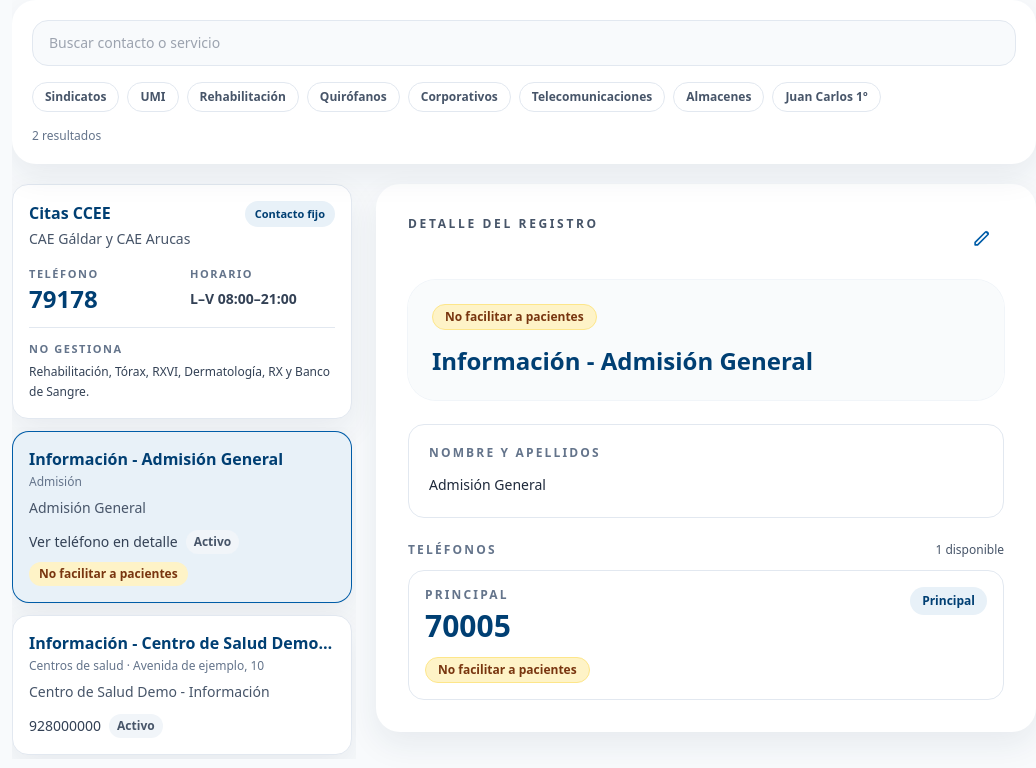
Test: DirectoryPage › keeps pager-only records out of the phone directory
Type "Busca sin teléfono" into the search field named "Buscar contactos" at (524, 43), box [32,20,1016,66]
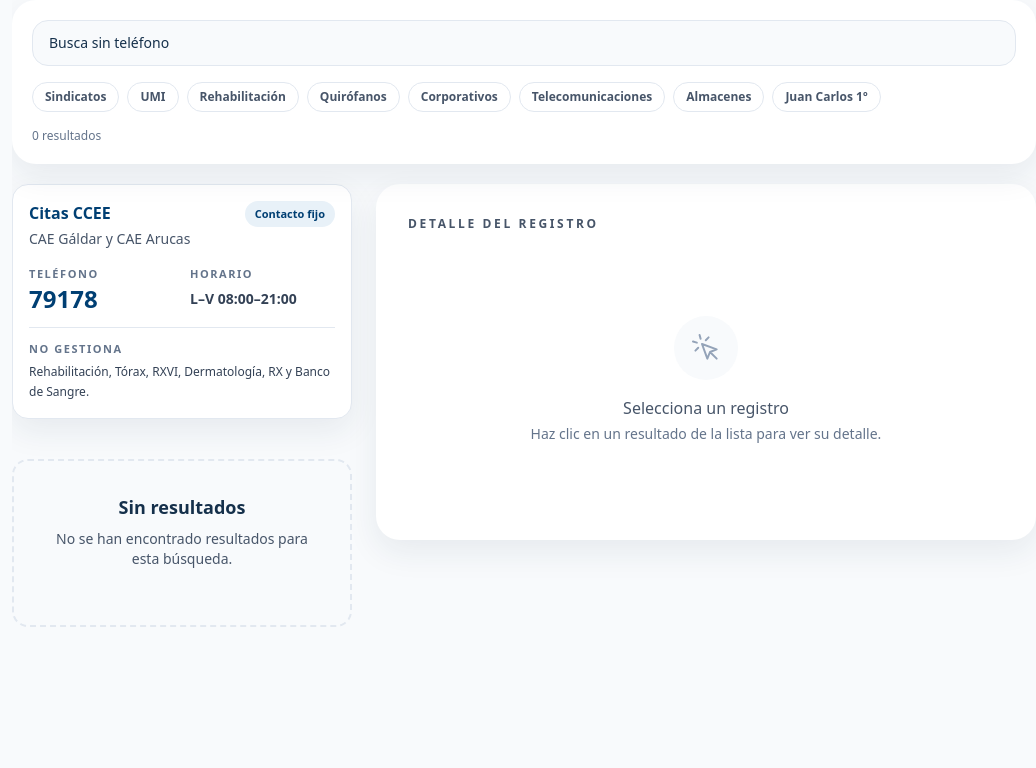
Expected: the heading "Sin resultados" is shown, [119,493,245,521]
